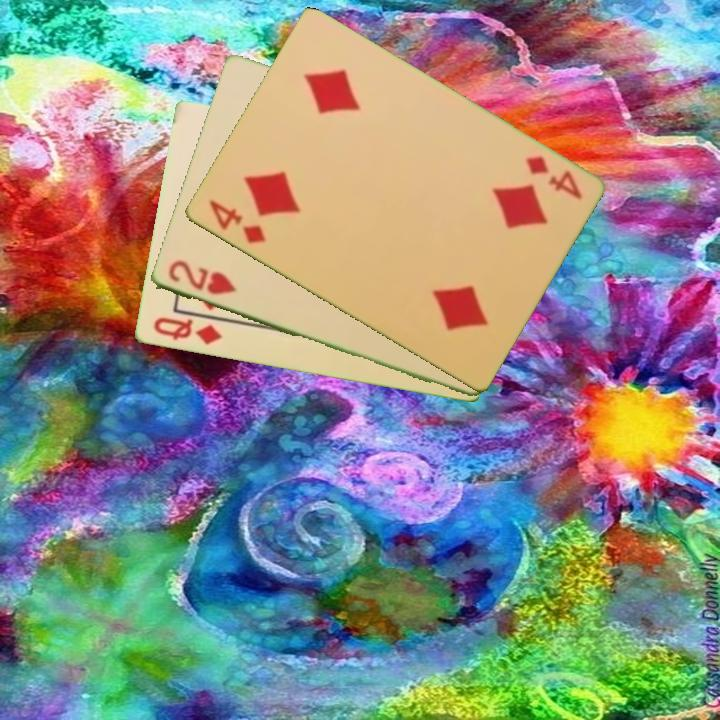2h: (164, 257, 240, 298)
4d: (204, 196, 269, 247), (522, 152, 585, 203)
Qd: (149, 314, 224, 348)
